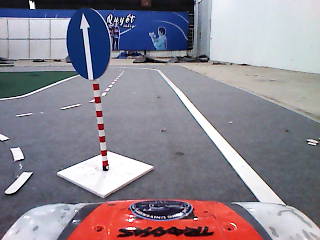straight: (63, 6, 117, 82)
